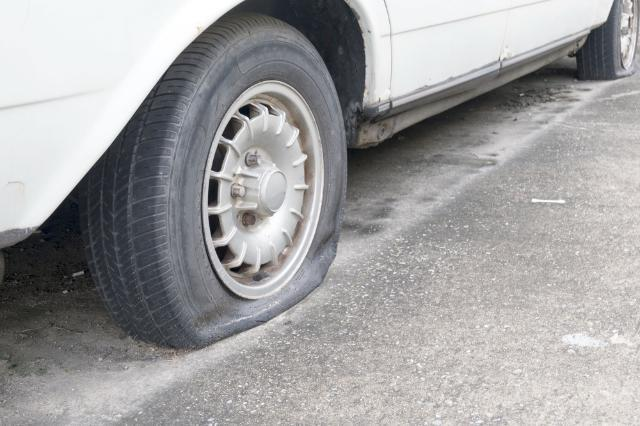tire flat: (78, 12, 346, 352), (577, 0, 640, 79)
